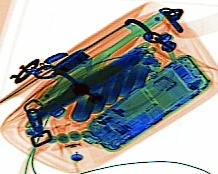powerbank: (62, 49, 157, 122)
